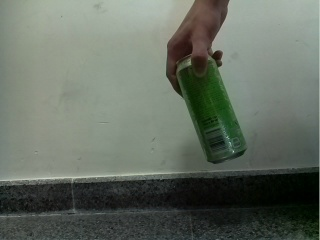botella plastico: (175, 52, 248, 164)
